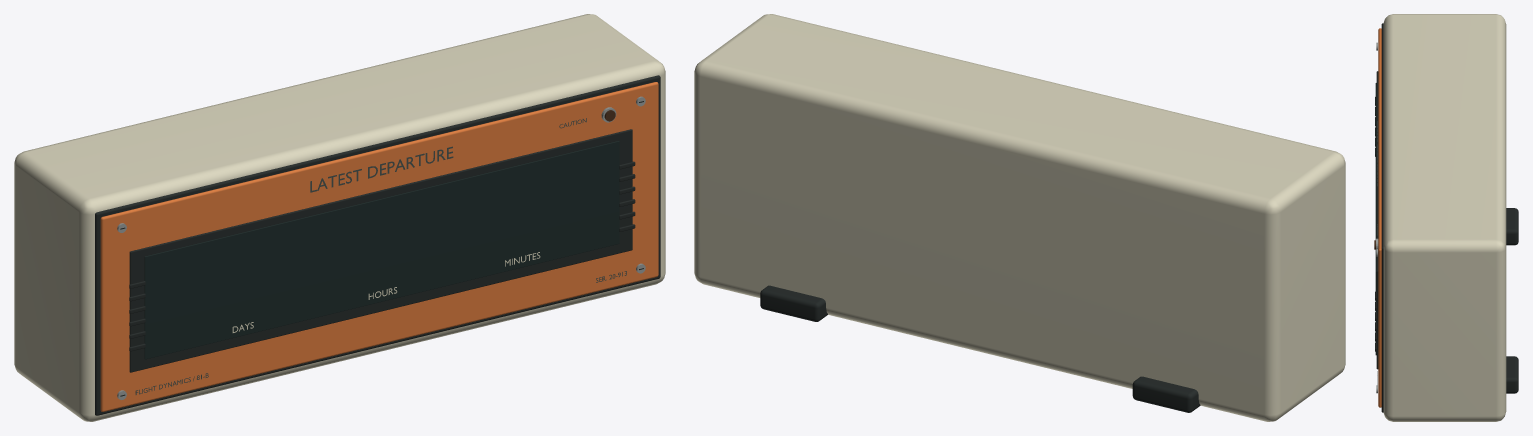
The model's file is ReturnCountdown.glb.
The picture shows the model from 3 angles, left to right: view 1: azimuth 30°, elevation 25°; view 2: azimuth 150°, elevation 25°; view 3: azimuth 270°, elevation 25°; orthographic projection. The views are drawn at different scales.
Parts seen in each view (by area): view 1: ReturnCountdown_StaticGeometry; view 2: ReturnCountdown_StaticGeometry; view 3: ReturnCountdown_StaticGeometry.
Part boxes in pixels (box(x1,y1,x2,y2)): ReturnCountdown_StaticGeometry: box(14, 14, 665, 421); ReturnCountdown_StaticGeometry: box(694, 14, 1345, 421); ReturnCountdown_StaticGeometry: box(1374, 14, 1518, 421).
Bounding box in the file's own units: 0.44 × 0.16 × 0.1152.
